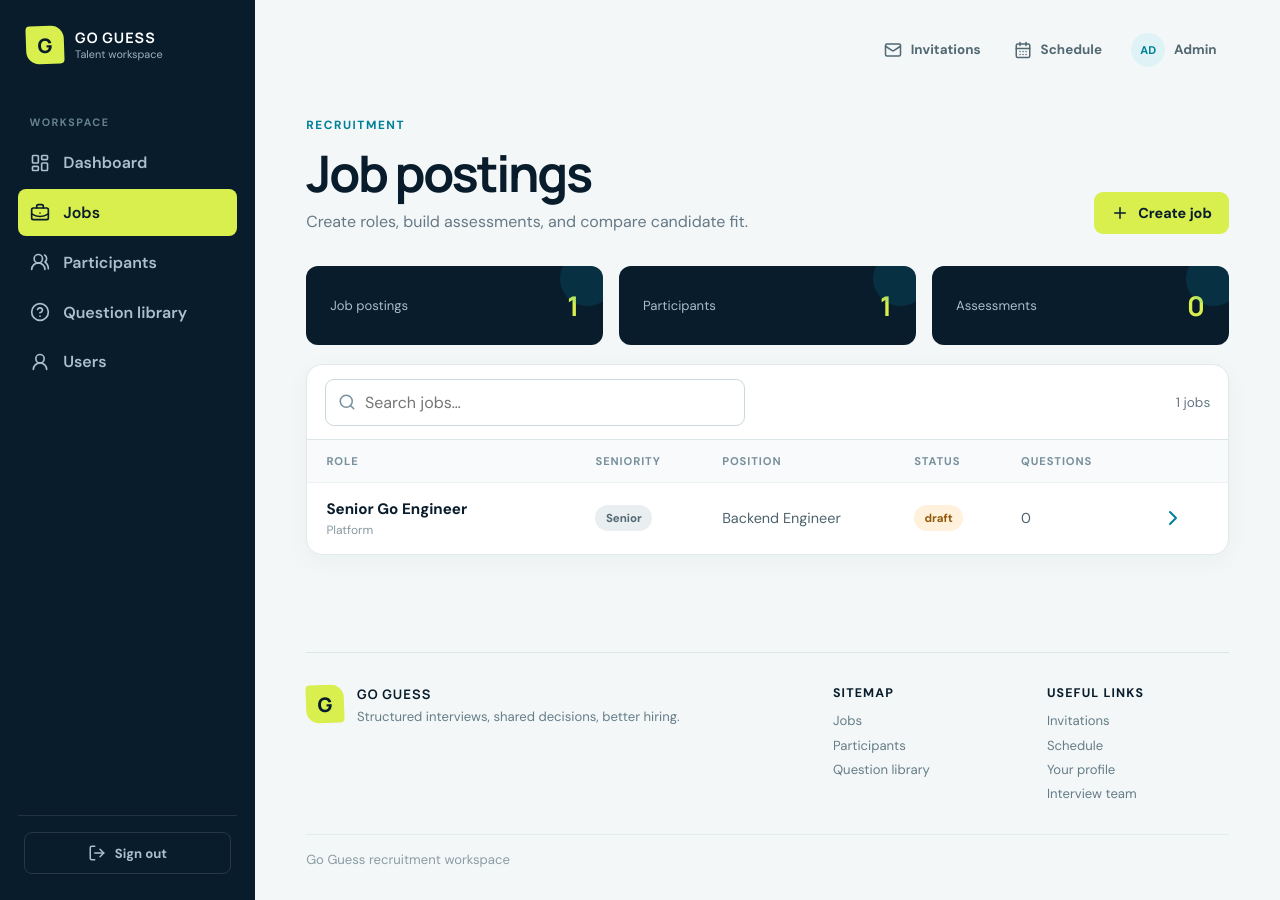
Test: Go Guess frontend › filters jobs by title
Expected: the link "Senior Go Engineer" is shown, [326,499,467,519]
Type "designer" into the field labelled "Search jobs…" at (535, 402), box [325,378,745,426]
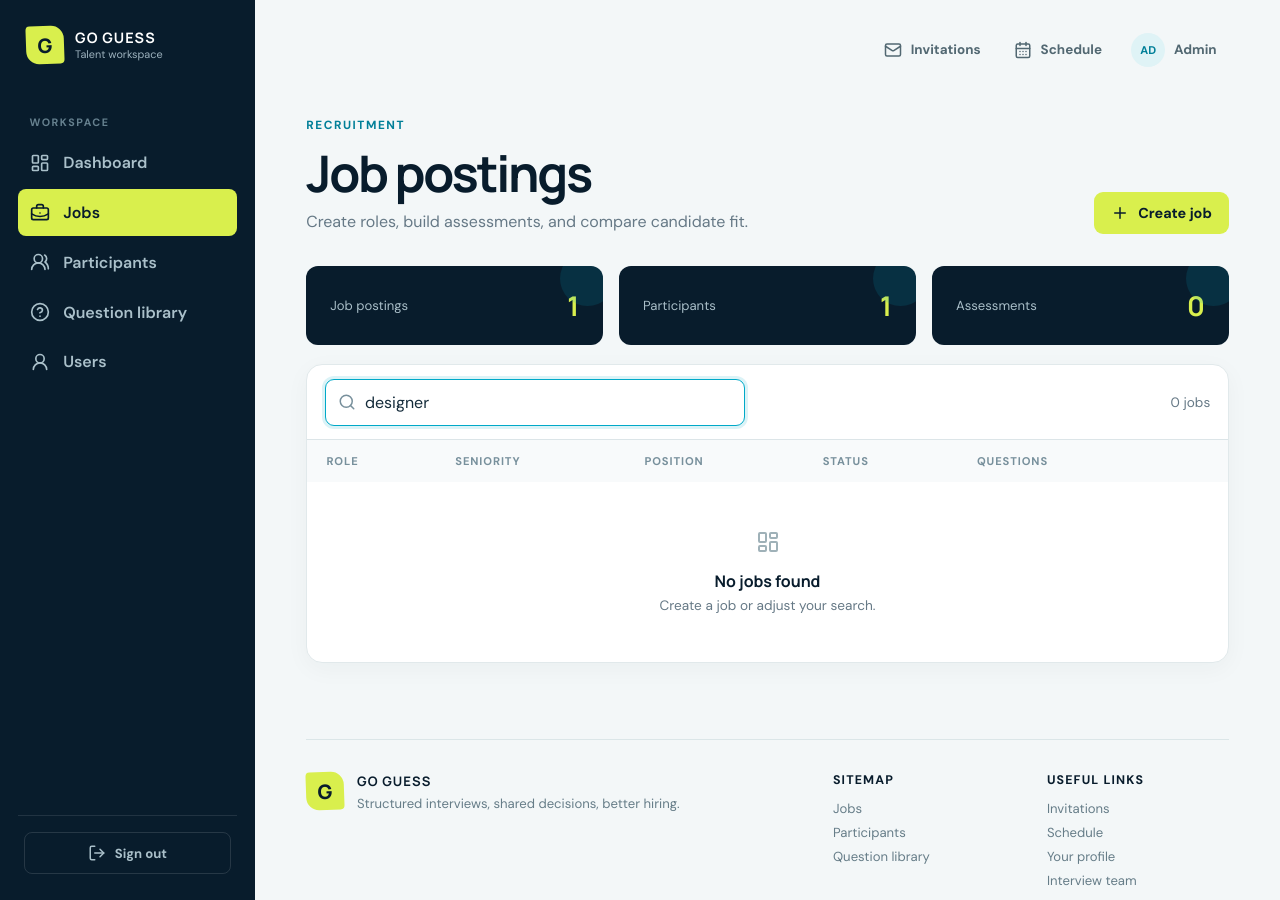
Now the link "Senior Go Engineer" is gone
